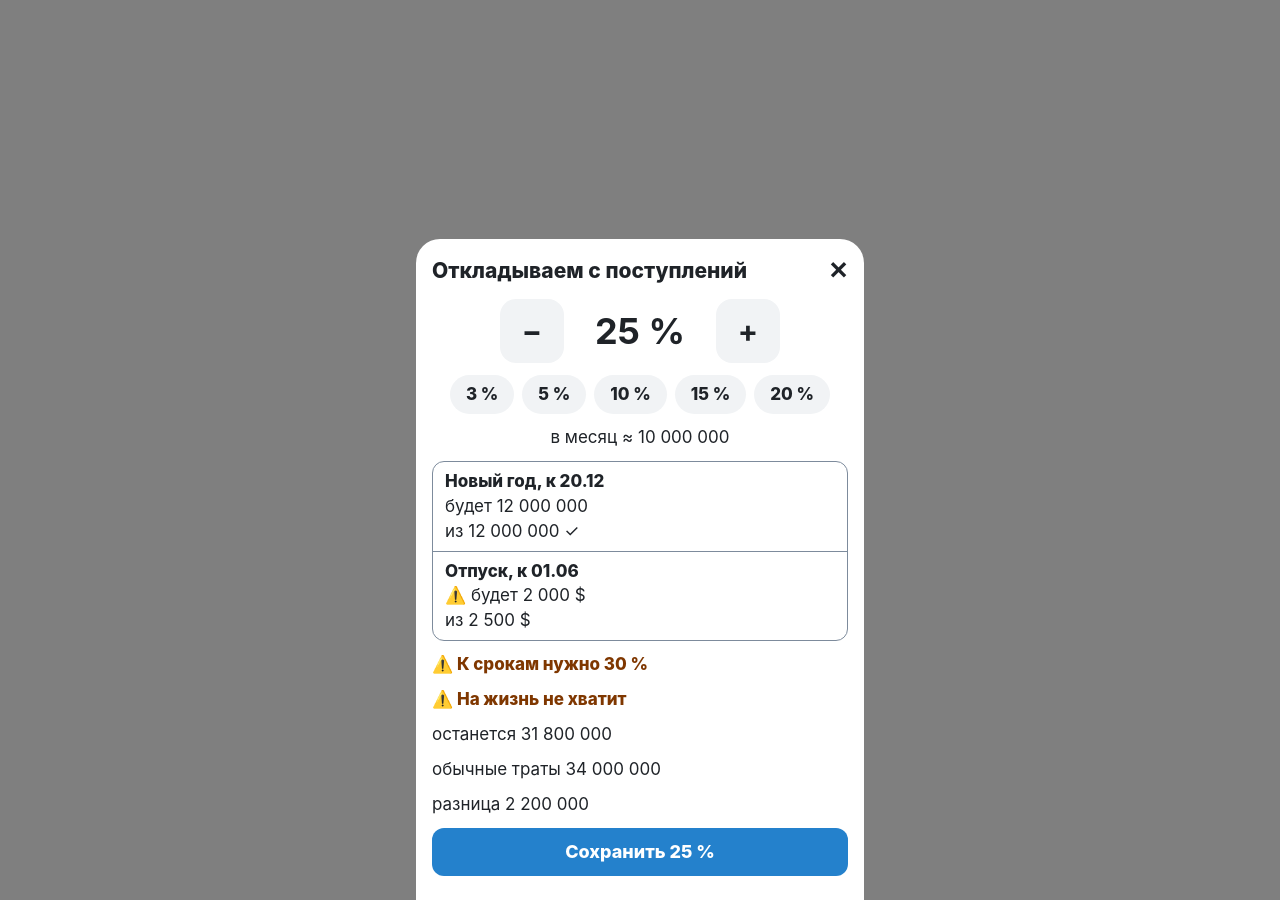
Test: PercentSheet › steps the percent and shows what it gives
Check: the text "25 %" is shown, box [595,309,685,353]
Click the button named "Больше на 1 %": {"x": 748, "y": 331} [716,299,780,363]
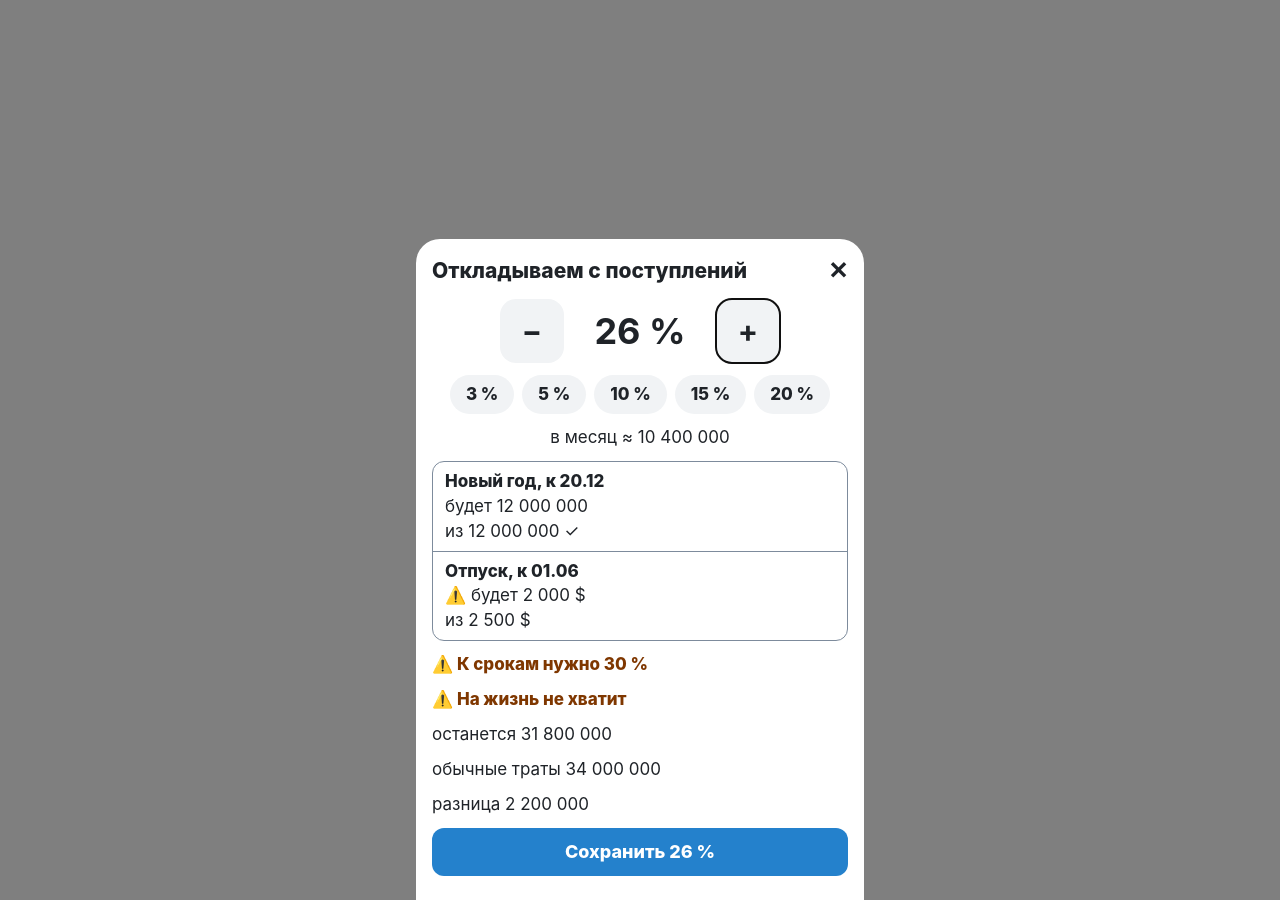
Check: the text "26 %" is shown, box [594,309,686,353]
Check: the text "в месяц ≈ 10 400 000" is shown, box [550,427,730,447]
